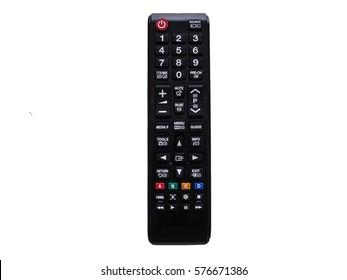Remote control: (147, 13, 213, 247)
